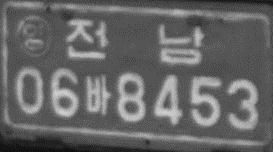0: (14, 66, 44, 116)
3: (226, 78, 259, 133)
4: (153, 75, 184, 124)
5: (189, 74, 221, 127)
6: (49, 68, 79, 119)
8: (117, 72, 146, 123)
바: (84, 73, 112, 114)
영: (15, 14, 52, 58)
전남_D: (66, 17, 204, 65)
